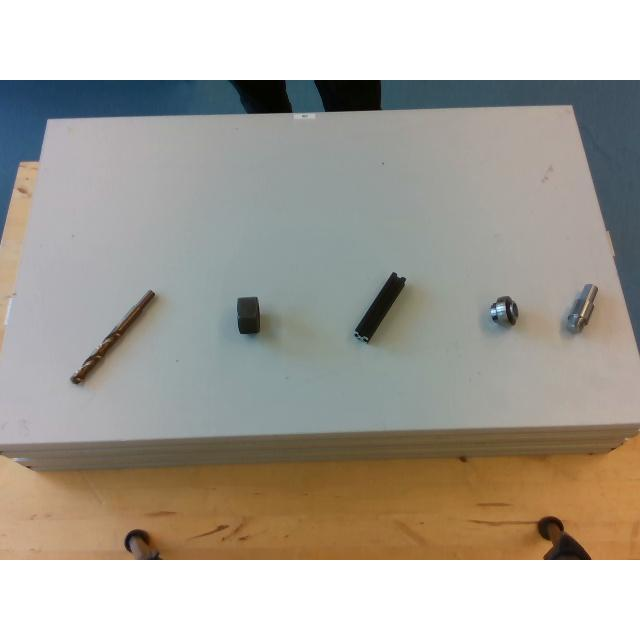Axis2: (564, 283, 596, 331)
Bearing2: (490, 296, 518, 328)
Drill: (70, 288, 156, 384)
F20_20_B: (354, 272, 406, 340)
M20_100: (237, 296, 260, 332)
